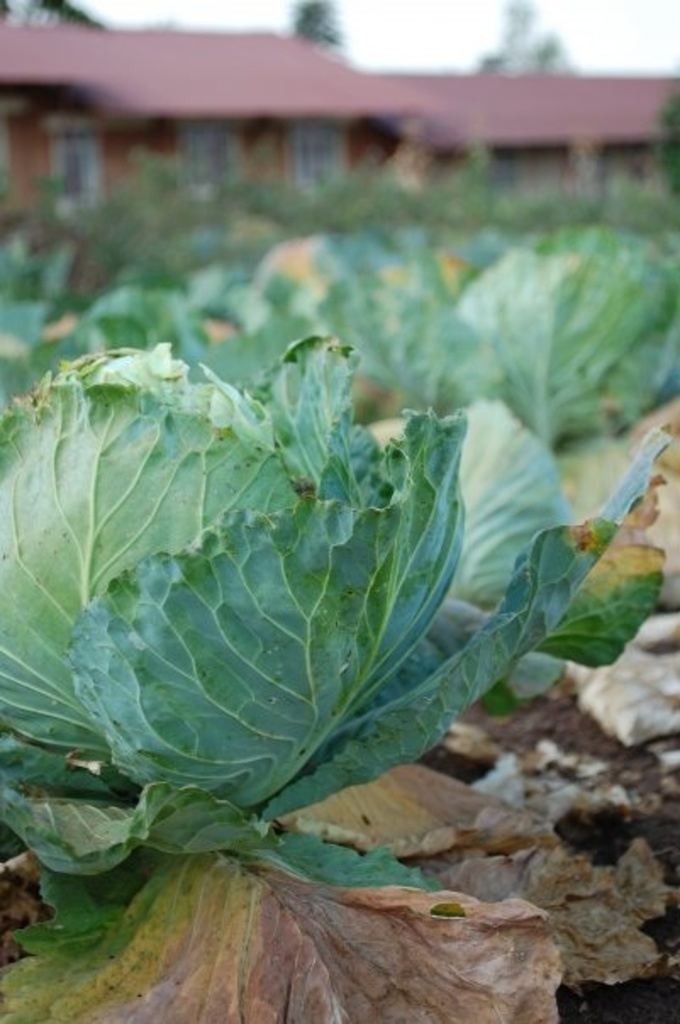Cabbage: (0, 195, 680, 1024)
